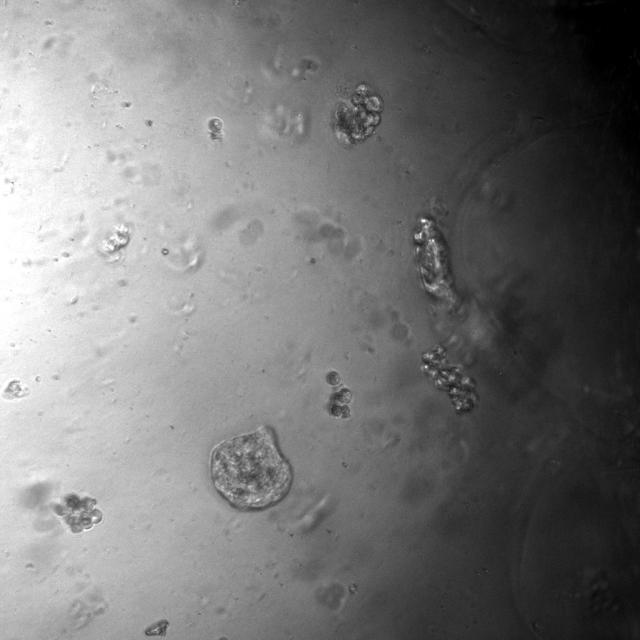organoid: (211, 426, 292, 509), (413, 215, 460, 312), (421, 346, 477, 413), (333, 83, 382, 145), (53, 493, 102, 534), (326, 370, 352, 418), (102, 225, 130, 253), (1, 378, 29, 400), (208, 116, 224, 139), (347, 582, 359, 596)
